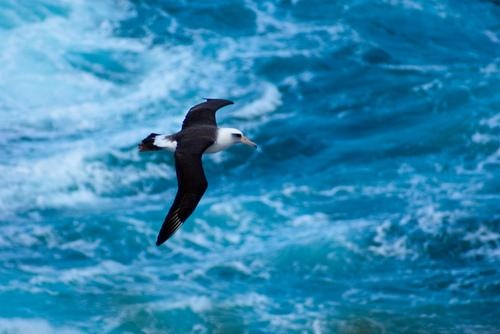bird: (137, 96, 256, 246)
